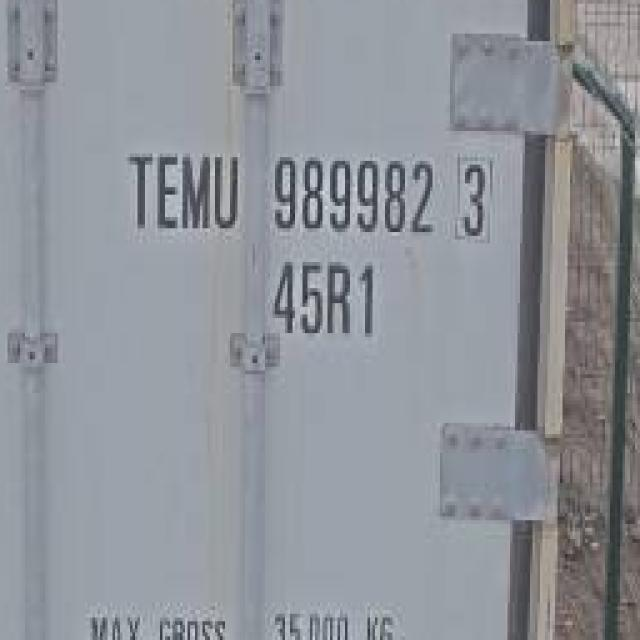dv: (449, 152, 497, 243)
owner: (123, 140, 240, 242)
serial: (265, 144, 438, 241)
size: (265, 248, 380, 342)
